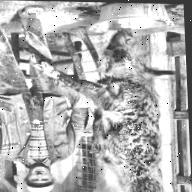boar: (81, 18, 191, 192)
